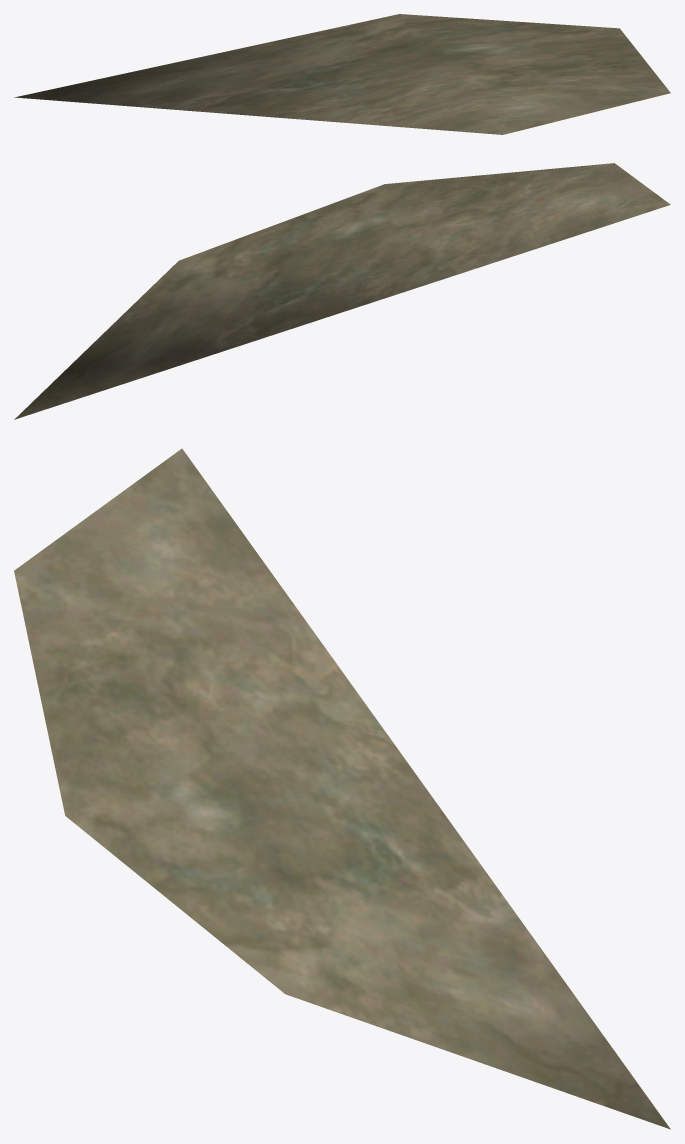
File: OVERHILL_A_01_LINE75.fbx
The picture shows the model from 3 angles, top to bottom: view 1: azimuth 90°, elevation 25°; view 2: azimuth 150°, elevation 25°; view 3: azimuth 270°, elevation 25°; orthographic projection. The views are drawn at different scales.
Visible parts, largest first — view 1: OVERHILL_A_01_LINE75; view 2: OVERHILL_A_01_LINE75; view 3: OVERHILL_A_01_LINE75.
Boxes of the visible parts, x1=… form: OVERHILL_A_01_LINE75: x1=14, y1=14, x2=670, y2=134; OVERHILL_A_01_LINE75: x1=14, y1=163, x2=670, y2=419; OVERHILL_A_01_LINE75: x1=14, y1=448, x2=670, y2=1129.
Bounding box in the file's own units: 20079 × 8386 × 15513.
1 material, 1 textured.
